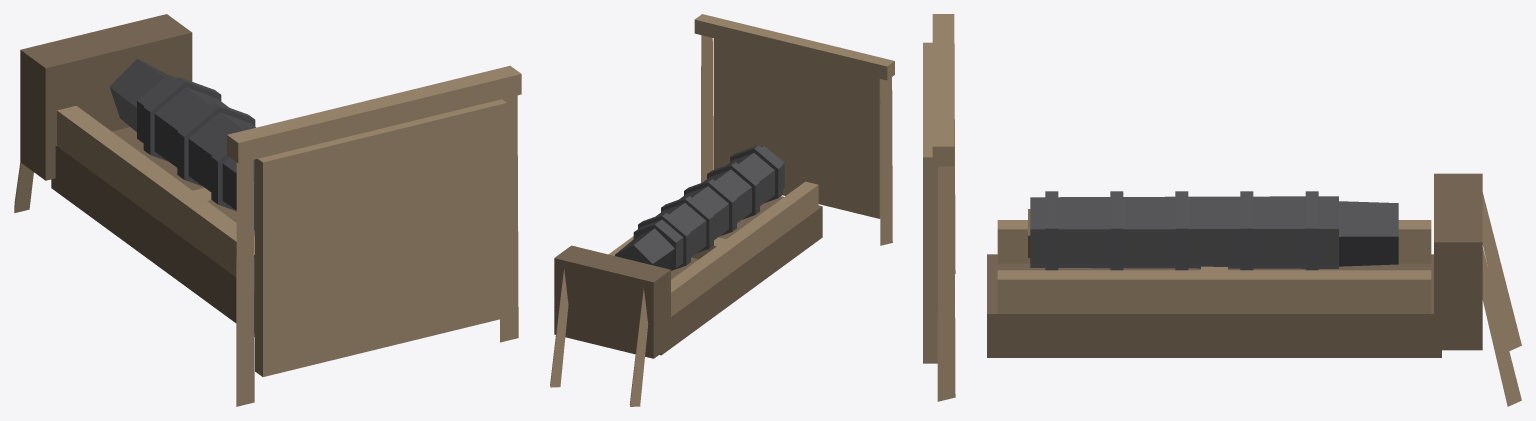
Rendered from bombard_lod.glb.
3 views of the same model, side by side, from view 1: azimuth 30°, elevation 25°; view 2: azimuth 150°, elevation 25°; view 3: azimuth 270°, elevation 25° (orthographic). The views are drawn at different scales.
Parts seen in each view (by area): view 1: MantletBoard, Bed, BarrelTube; view 2: Bed, MantletBoard, BarrelTube; view 3: Bed, BarrelTube, MantletBoard.
Part boxes in pixels (x1,y1,x2,y2): MantletBoard: (255, 99, 507, 376); Bed: (14, 14, 521, 406); BarrelTube: (109, 59, 255, 230); Bed: (550, 14, 894, 406); MantletBoard: (713, 38, 880, 218); BarrelTube: (615, 145, 784, 270); Bed: (932, 14, 1521, 406); BarrelTube: (1028, 191, 1398, 270); MantletBoard: (923, 42, 937, 363).
Bounding box in the file's own units: 2.9 × 3.01 × 5.53.
